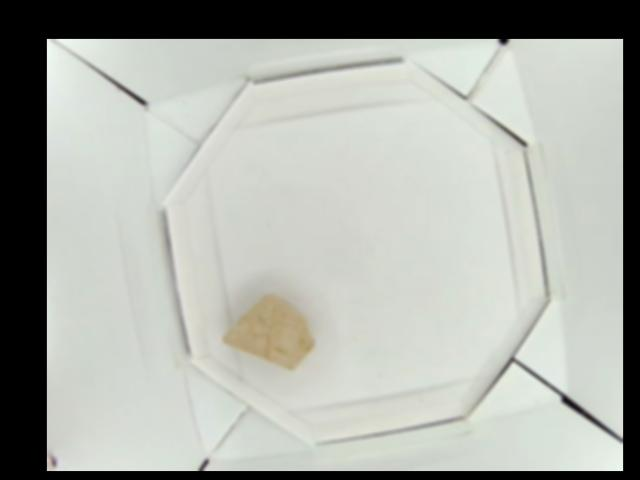China: (220, 294, 314, 368)
